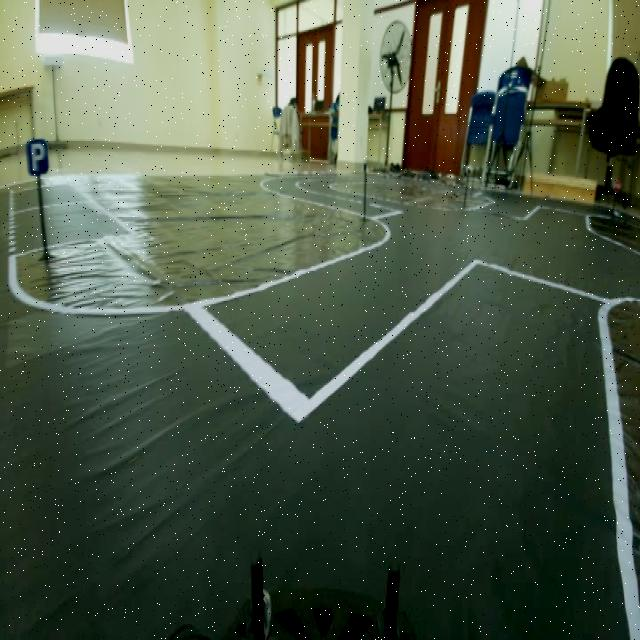parking: (23, 133, 53, 173)
